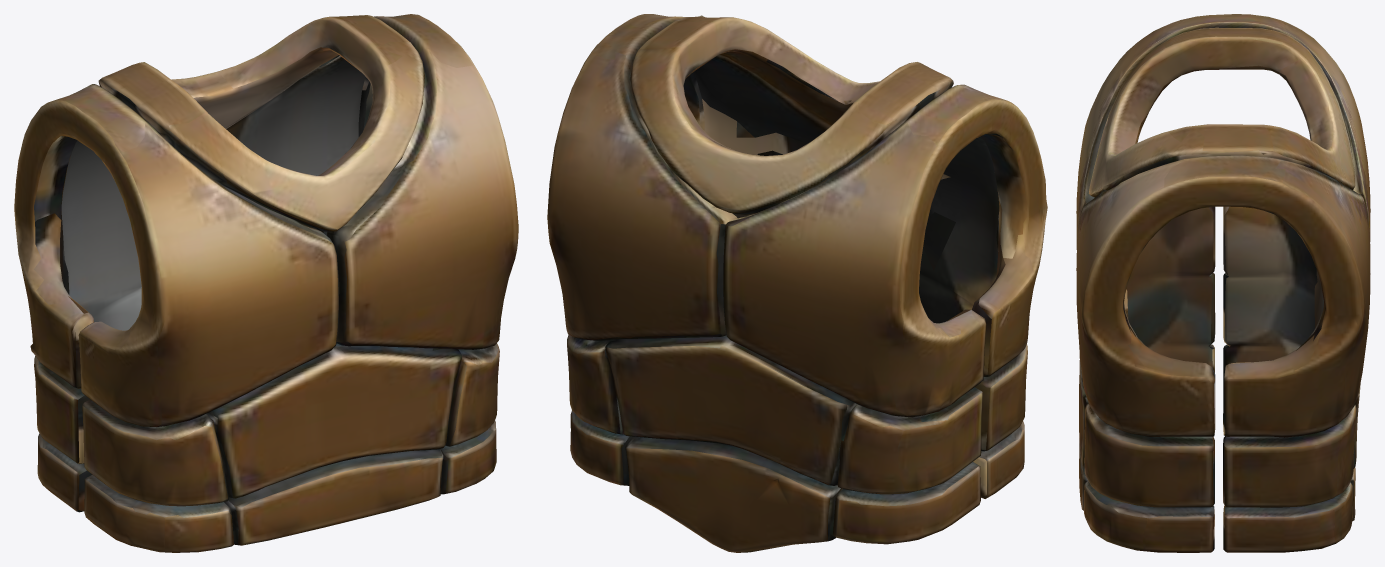
Rendered from gogusluk.glb.
3 views of the same model, side by side, from view 1: azimuth 30°, elevation 25°; view 2: azimuth 150°, elevation 25°; view 3: azimuth 270°, elevation 25° (orthographic). The views are drawn at different scales.
Visible parts, largest first — view 1: ChestPlate; view 2: ChestPlate; view 3: ChestPlate.
Boxes of the visible parts, x1,y1,x2,y2 form: ChestPlate: (14, 14, 518, 552); ChestPlate: (547, 14, 1047, 552); ChestPlate: (1076, 14, 1370, 552).
Size of the model in its own units: 0.5785 by 0.65 by 0.4036.
1 material, 1 textured.
